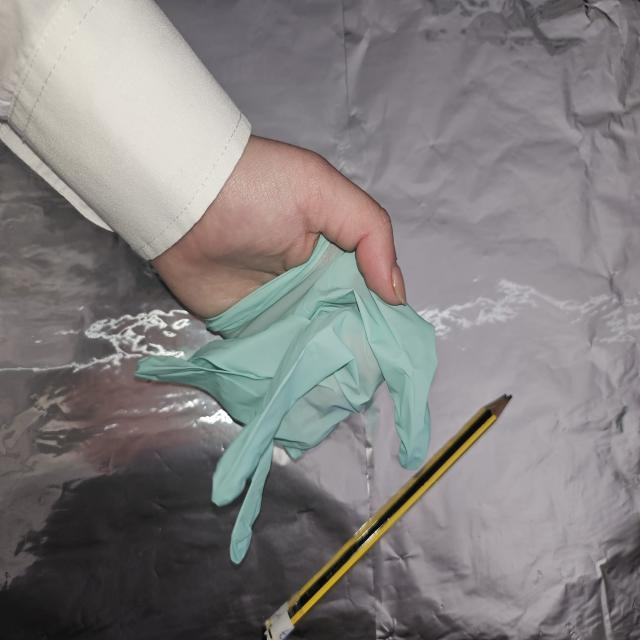glove_partial: (134, 132, 438, 556)
